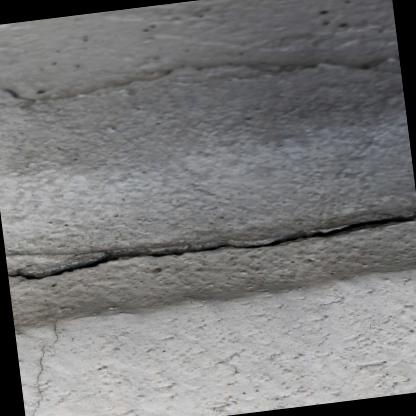crack: (6, 213, 416, 281)
